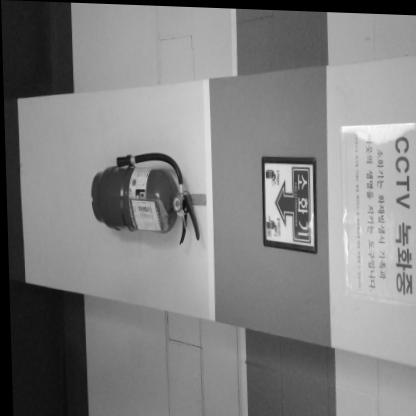FE: (89, 147, 203, 244)
